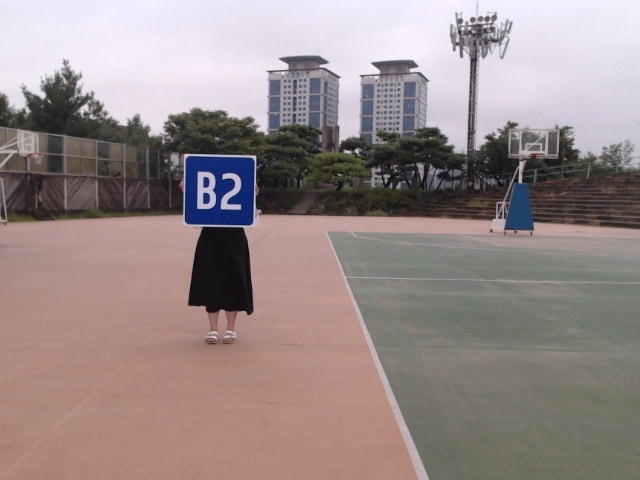delivery_b2: (184, 154, 255, 227)
